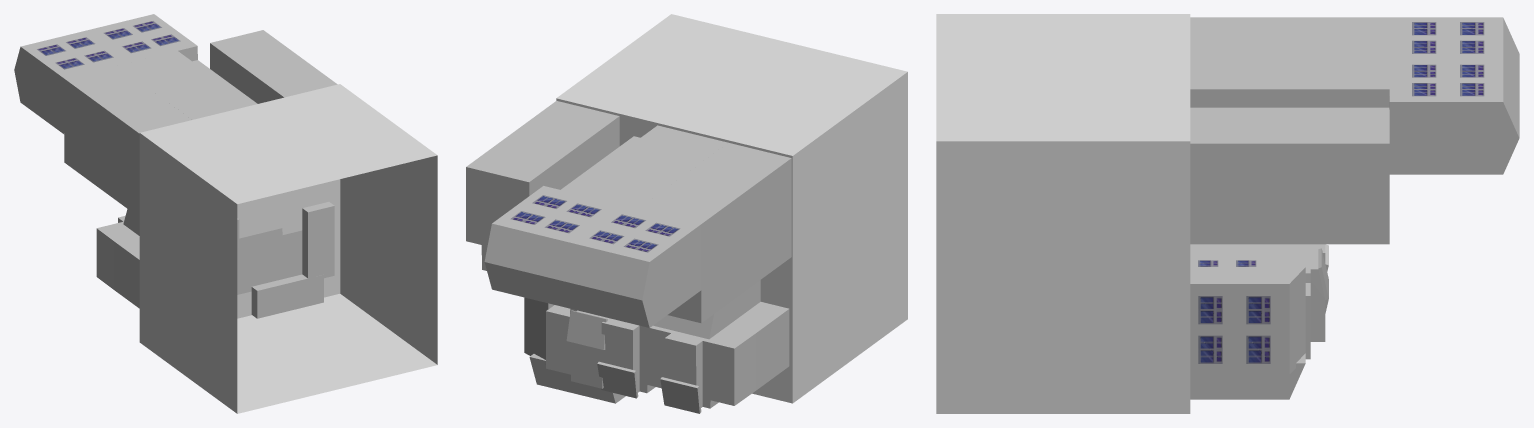
Rendered from block_slum_01.FBX.
3 views of the same model, side by side, from view 1: azimuth 30°, elevation 25°; view 2: azimuth 150°, elevation 25°; view 3: azimuth 270°, elevation 25° (orthographic). The views are drawn at different scales.
Visible parts, largest first — view 1: Plane010, Object091, Object093, Object092, addon010, addon009, building_apartment_3s001, building_apartment_3s003, addon005, addon006, addon007, building_apartment_3s002; view 2: Plane010, Object091, Object093, building_apartment_3s001, addon010, addon009, Object092, building_apartment_3s002, addon007, building_apartment_3s003, addon008, addon003 (+2 smaller); view 3: Plane010, Object093, addon005, Object092, addon009, Object091, addon010, addon008, building_apartment_3s003, addon006, building_apartment_3s002.
Boxes of the visible parts, left/top/right/bottom form: Plane010: left=139, top=84, right=437, bottom=413; Object091: left=64, top=65, right=191, bottom=217; Object093: left=210, top=30, right=337, bottom=103; Object092: left=118, top=51, right=257, bottom=119; addon010: left=14, top=30, right=130, bottom=106; addon009: left=88, top=14, right=197, bottom=62; building_apartment_3s001: left=96, top=215, right=139, bottom=308; building_apartment_3s003: left=249, top=228, right=302, bottom=291; addon005: left=302, top=202, right=334, bottom=282; addon006: left=251, top=274, right=323, bottom=318; addon007: left=14, top=70, right=64, bottom=134; building_apartment_3s002: left=237, top=236, right=249, bottom=294; Plane010: left=556, top=14, right=907, bottom=403; Object091: left=638, top=142, right=791, bottom=322; Object093: left=466, top=101, right=619, bottom=270; building_apartment_3s001: left=660, top=302, right=789, bottom=413; addon010: left=563, top=205, right=701, bottom=300; addon009: left=484, top=186, right=621, bottom=280; Object092: left=561, top=125, right=727, bottom=208; building_apartment_3s002: left=597, top=318, right=673, bottom=398; addon007: left=563, top=257, right=701, bottom=327; building_apartment_3s003: left=546, top=305, right=608, bottom=388; addon008: left=484, top=262, right=570, bottom=308; addon003: left=653, top=280, right=760, bottom=339; Plane010: left=936, top=14, right=1190, bottom=413; Object093: left=1190, top=109, right=1389, bottom=244; addon005: left=1190, top=267, right=1305, bottom=374; Object092: left=1190, top=51, right=1389, bottom=109; addon009: left=1389, top=59, right=1519, bottom=138; Object091: left=1190, top=17, right=1389, bottom=51; addon010: left=1389, top=17, right=1519, bottom=95; addon008: left=1389, top=138, right=1519, bottom=174; building_apartment_3s003: left=1190, top=248, right=1328, bottom=359; addon006: left=1190, top=353, right=1305, bottom=399; building_apartment_3s002: left=1190, top=244, right=1328, bottom=313.
Size of the model in its own units: 30 by 30 by 58.11.
